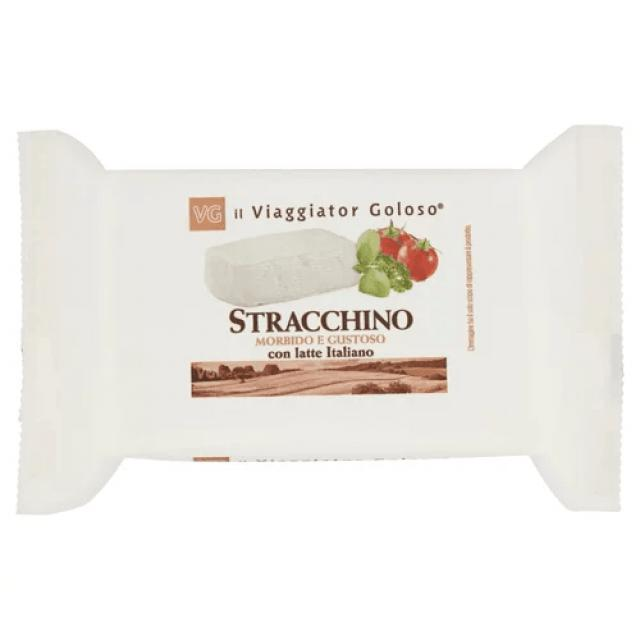Cheese: (19, 124, 625, 517)
